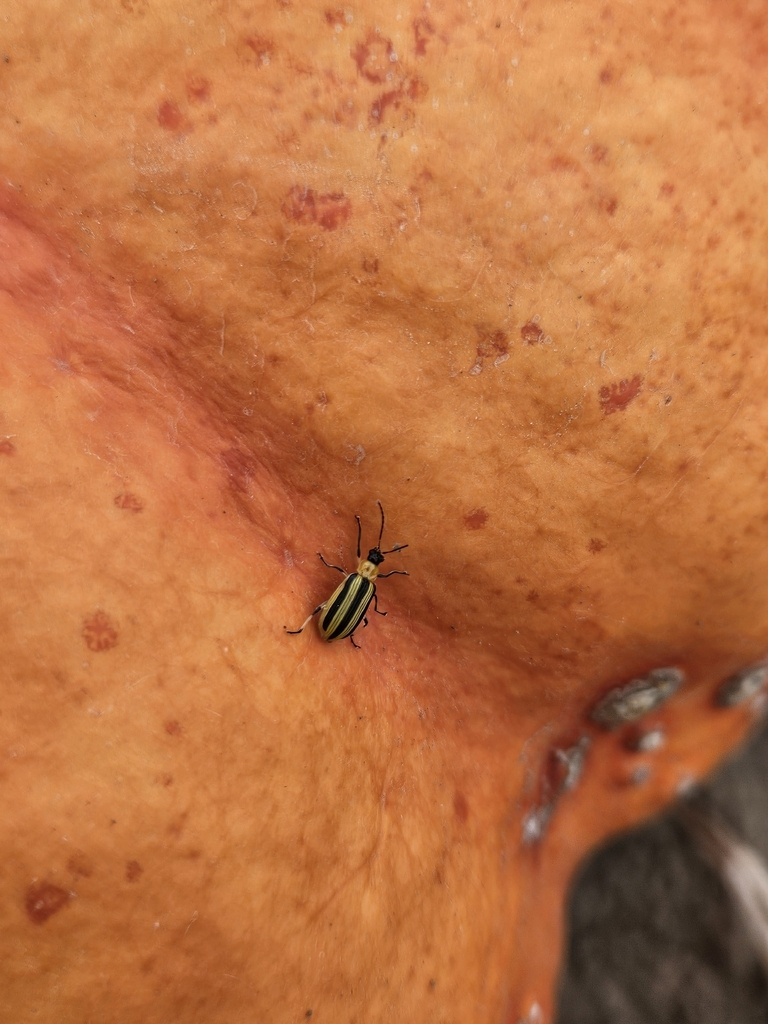potato_beetle: (224, 449, 472, 715)
